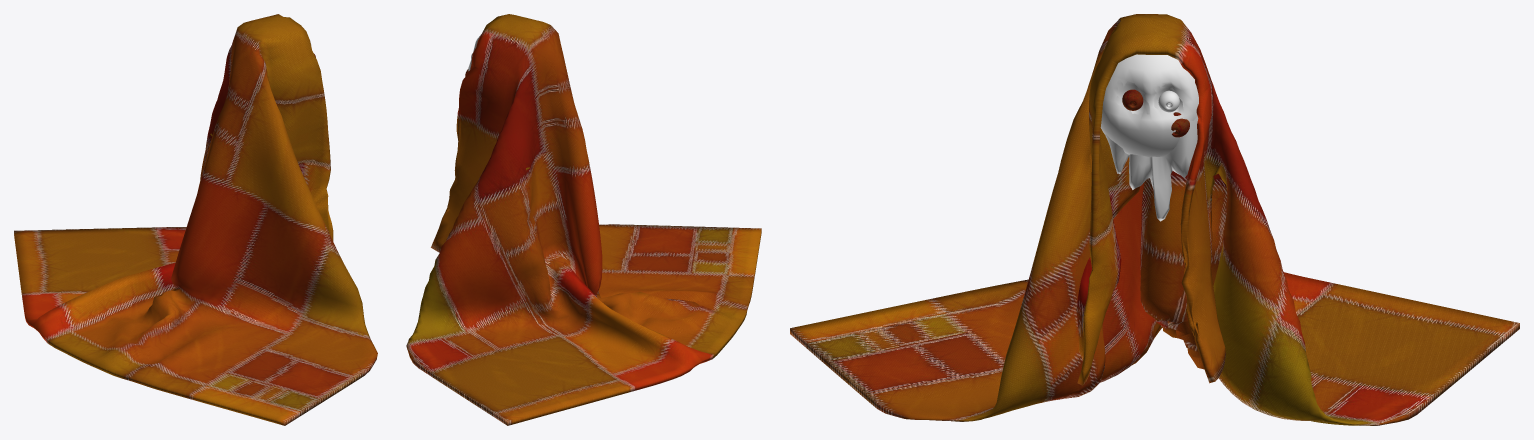
The model's file is Posast1.fbx.
The picture shows the model from 3 angles, left to right: view 1: azimuth 30°, elevation 25°; view 2: azimuth 150°, elevation 25°; view 3: azimuth 270°, elevation 25°; orthographic projection. The views are drawn at different scales.
Parts seen in each view (by area): view 1: blago; view 2: blago; view 3: blago, Sphere, glava.
Boxes of the visible parts, left/top/right/bottom form: blago: left=14, top=14, right=377, bottom=425; blago: left=406, top=14, right=761, bottom=425; blago: left=790, top=14, right=1519, bottom=425; Sphere: left=1100, top=54, right=1198, bottom=157; glava: left=1105, top=80, right=1198, bottom=221.
Size of the model in its own units: 738 by 719 by 1226.
